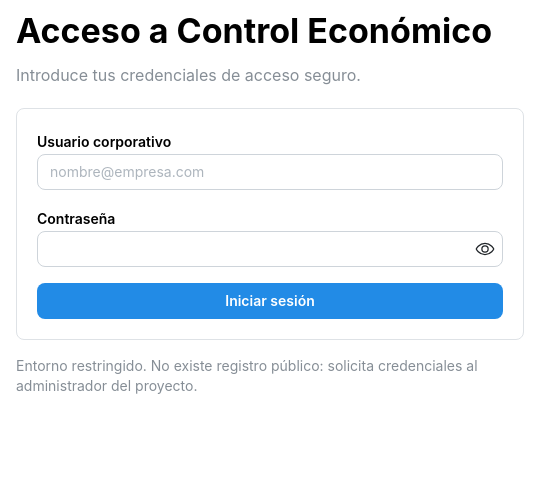
Test case: LoginPage › muestra el mensaje de error de la API cuando las credenciales son inválidas
Type "demo@ipd.com" into the field labelled "Usuario corporativo" at coordinates (270, 172), box x1=37 y1=154 x2=503 y2=190
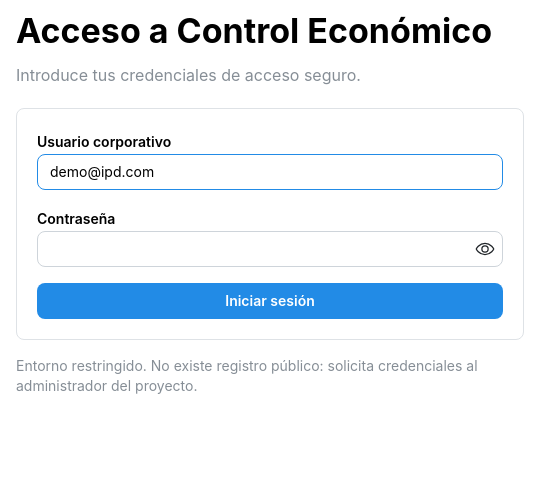
Type "wrong" into the password field labelled "Contraseña" at coordinates (270, 249), box x1=38 y1=232 x2=502 y2=266
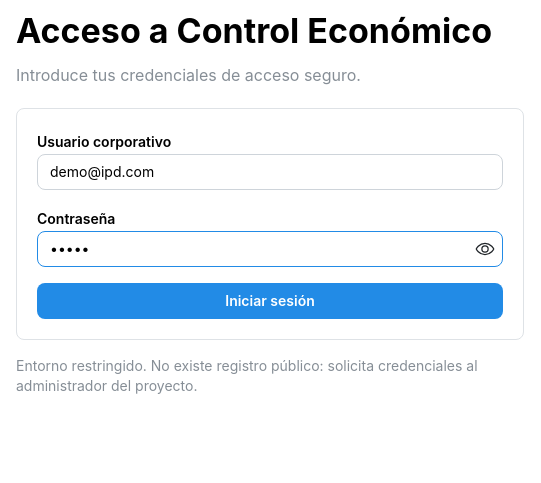
Click the button "Iniciar sesión" at coordinates (270, 301), box x1=37 y1=283 x2=503 y2=319
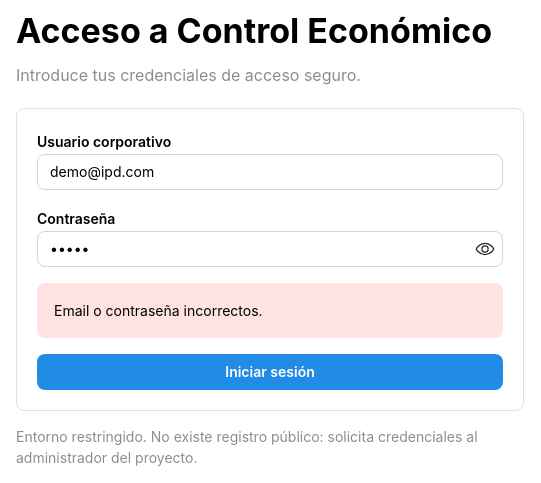
Now the text "Email o contraseña incorrectos." is shown, box x1=54 y1=302 x2=263 y2=319
